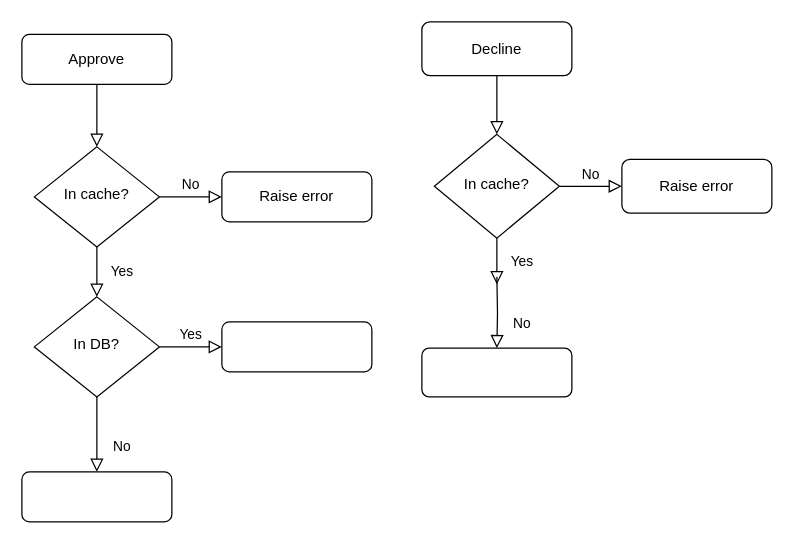
The diagram is 794 pixels wide and 544 high, and some of its shapes have lost their labels. Here are the shapes that lost their labels. From the top down, the centre of each, then its label:
At pixel 296 346: "raise eror".
At pixel 496 372: "Set record in db and delete".
At pixel 96 496: "create a new instance".
